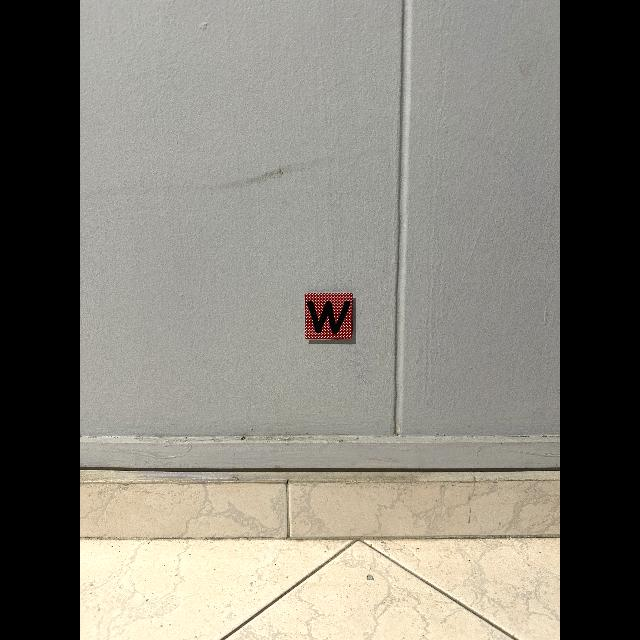W: (307, 300, 350, 334)
